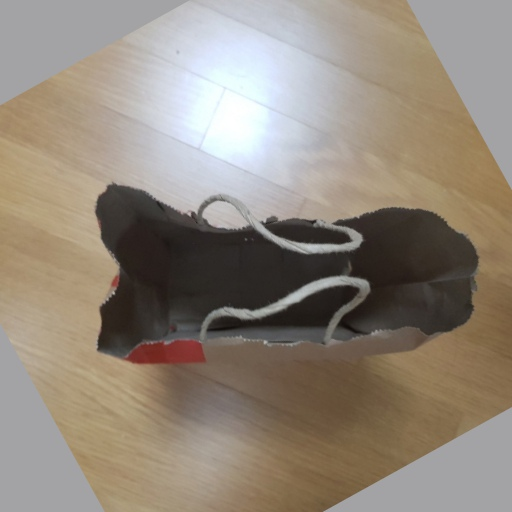Paper_0: (89, 177, 481, 375)
